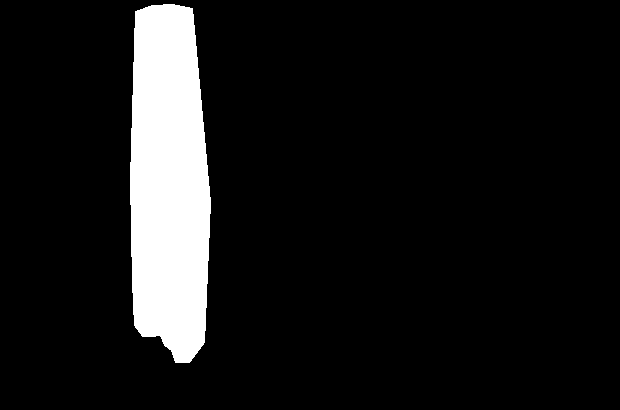type3s: (130, 3, 210, 369)
